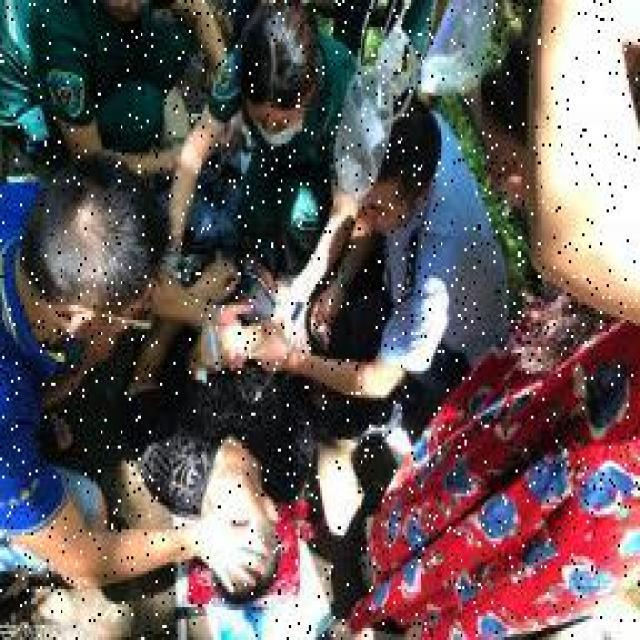fall: (151, 230, 307, 598)
